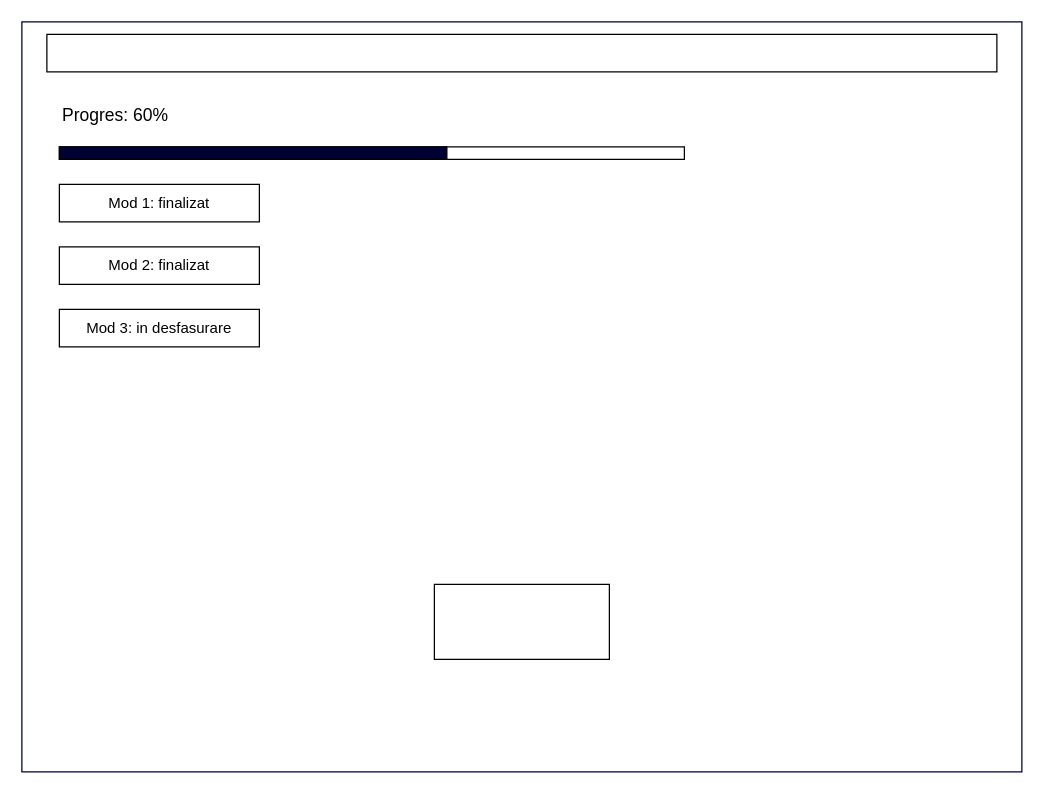
This 1044x794 diagram has some shape labels left out. The shapes that lost their labels are listed below. From the top down, each one's centre as x and y in pixels, then its label:
At (521,52): "Curs informatica aplicata".
At (521,621): "Continua".
